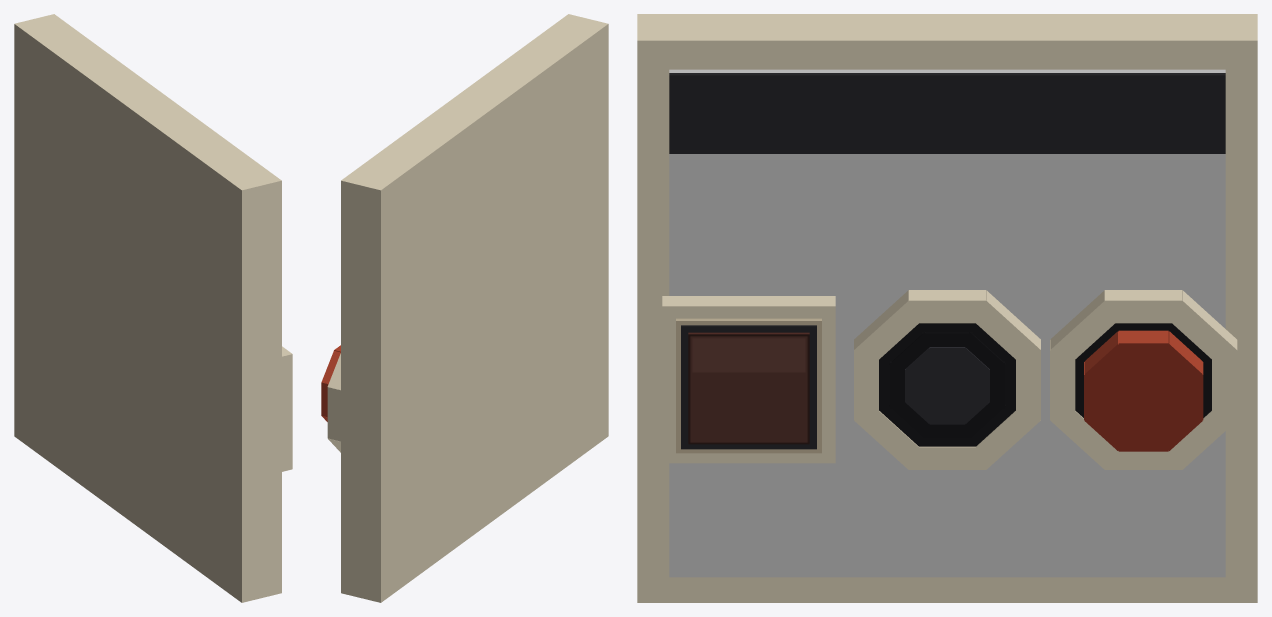
Rendered from alarm_2_surface.obj.
3 renders of one model, left to right at view 1: azimuth 30°, elevation 25°; view 2: azimuth 150°, elevation 25°; view 3: azimuth 270°, elevation 25°, orthographic. The views are drawn at different scales.
Visible parts, largest first — view 1: Panel, Lamp; view 2: Panel, BtnB; view 3: Panel, Lamp, BtnB, BtnA.
Boxes of the visible parts, x1=… form: Panel: x1=14, y1=14, x2=281, y2=602; Lamp: x1=282, y1=346, x2=292, y2=471; Panel: x1=341, y1=14, x2=608, y2=602; BtnB: x1=321, y1=345, x2=340, y2=452; Panel: x1=637, y1=14, x2=1257, y2=602; Lamp: x1=662, y1=296, x2=835, y2=463; BtnB: x1=1050, y1=290, x2=1237, y2=469; BtnA: x1=854, y1=290, x2=1040, y2=469.
Bounding box in the file's own units: 0.2016 × 1 × 1.
